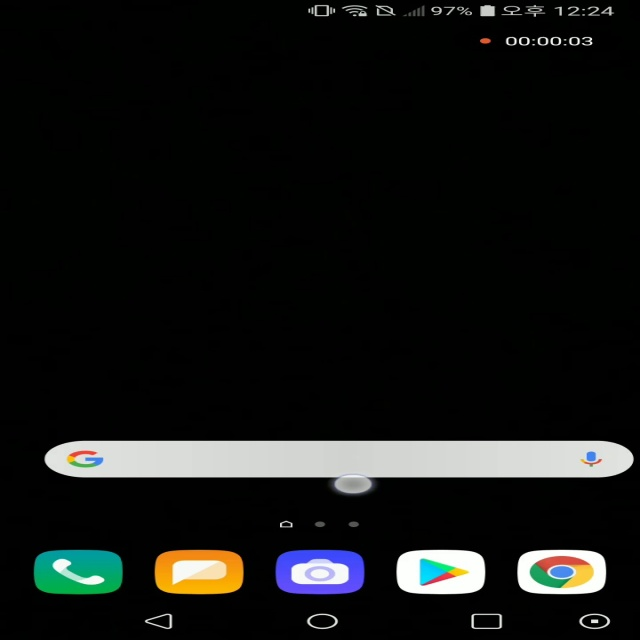Cursor: (332, 473, 376, 496)
